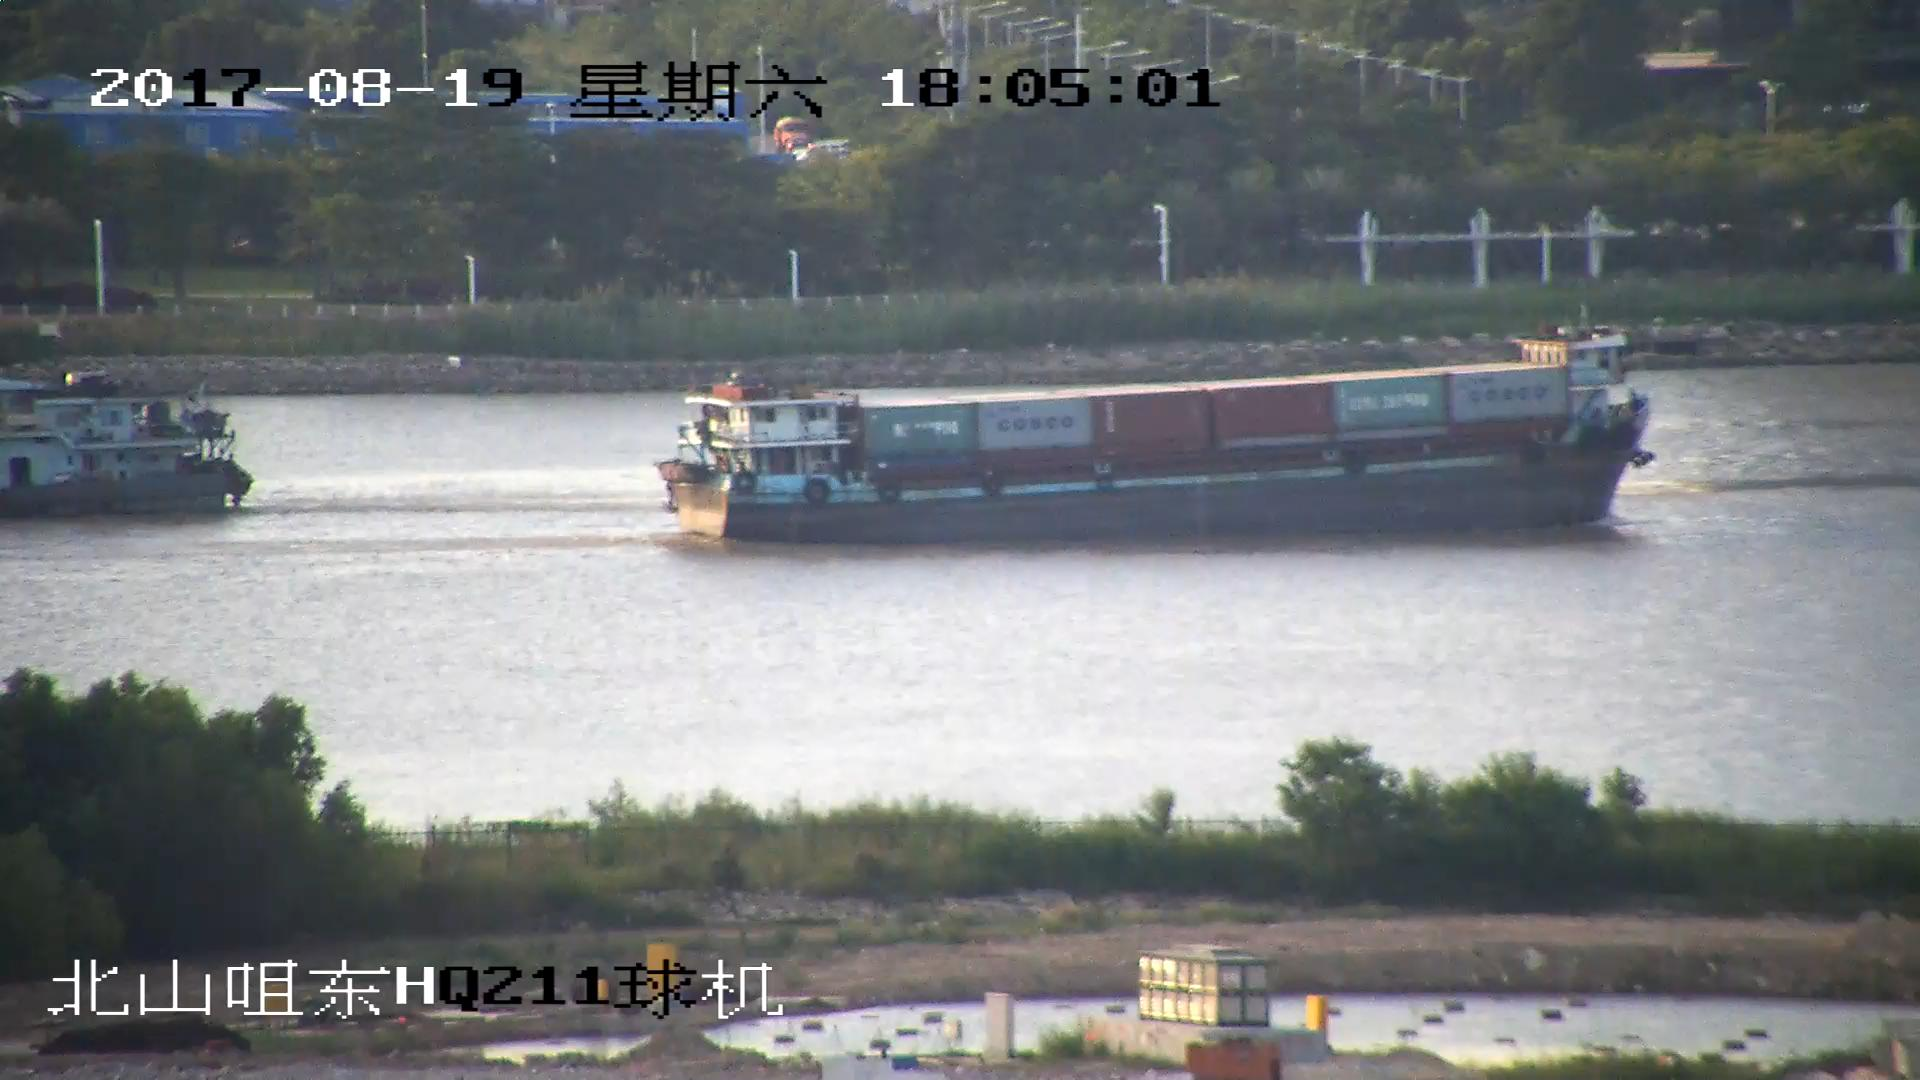container ship: (658, 326, 1659, 544)
